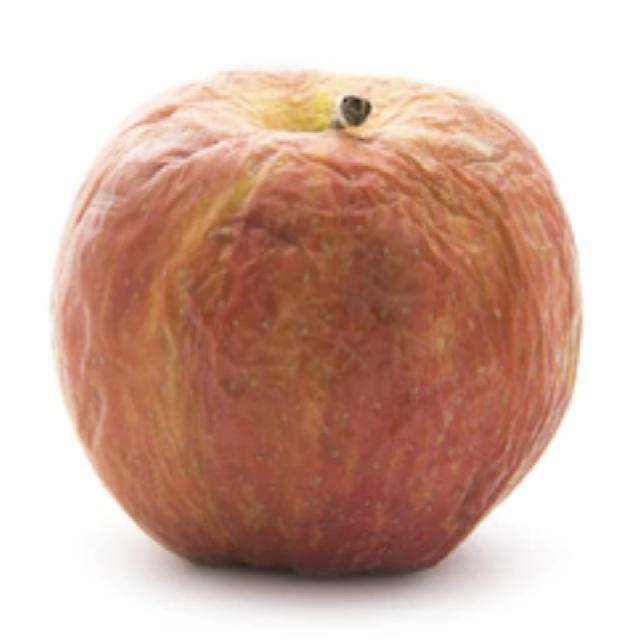Rotten: (48, 60, 587, 583)
